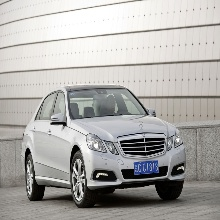no damage: (20, 84, 187, 207)
